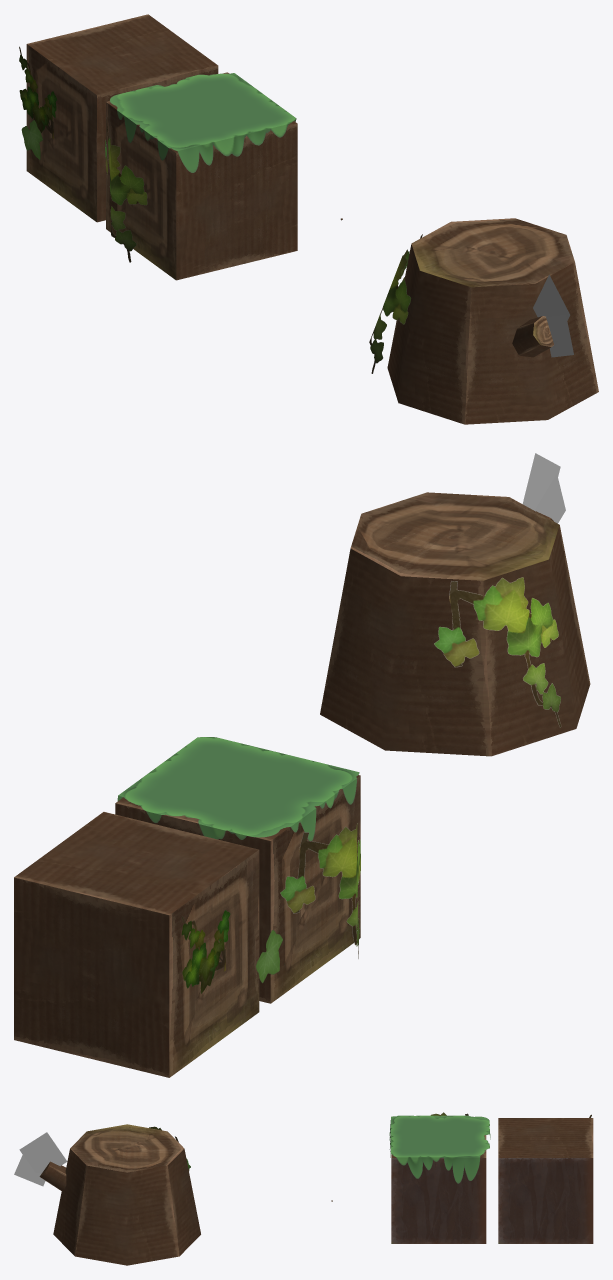
Rendered from Tree_Trunk.fbx.
3 renders of one model, top to bottom at view 1: azimuth 30°, elevation 25°; view 2: azimuth 150°, elevation 25°; view 3: azimuth 270°, elevation 25°, orthographic. The views are drawn at different scales.
Visible parts, largest first — view 1: Cube_Tree_stem.003, Cube_Tree_stem.002, Cube_Tree_stem.010, Cube_Tree_stem.005, Plane.004, Plane.001, Plane.002, Cube_Tree_stem.001, Leaf, Leaf.001; view 2: Cube_Tree_stem.010, Cube_Tree_stem.003, Cube_Tree_stem.005, Cube_Tree_stem.002, Plane.001, Plane.004, Plane.002, Leaf, Plane.003, Leaf.001; view 3: Cube_Tree_stem.003, Cube_Tree_stem.010, Cube_Tree_stem.002, Cube_Tree_stem.005, Leaf, Cube_Tree_stem.001, Leaf.001.
Part boxes in pixels (bbox=[...]): Cube_Tree_stem.003: bbox=[387, 218, 598, 424]; Cube_Tree_stem.002: bbox=[106, 72, 297, 280]; Cube_Tree_stem.010: bbox=[26, 14, 218, 222]; Cube_Tree_stem.005: bbox=[109, 73, 296, 172]; Plane.004: bbox=[105, 116, 147, 262]; Plane.001: bbox=[369, 234, 422, 373]; Plane.002: bbox=[19, 46, 57, 138]; Cube_Tree_stem.001: bbox=[512, 316, 553, 357]; Leaf: bbox=[533, 274, 570, 348]; Leaf.001: bbox=[546, 315, 573, 357]; Cube_Tree_stem.010: bbox=[14, 812, 259, 1077]; Cube_Tree_stem.003: bbox=[320, 492, 590, 756]; Cube_Tree_stem.005: bbox=[117, 737, 359, 840]; Cube_Tree_stem.002: bbox=[115, 775, 360, 1003]; Plane.001: bbox=[434, 577, 561, 727]; Plane.004: bbox=[280, 823, 360, 958]; Plane.002: bbox=[181, 910, 230, 993]; Leaf: bbox=[522, 453, 560, 510]; Plane.003: bbox=[256, 930, 284, 983]; Leaf.001: bbox=[534, 473, 565, 523]; Cube_Tree_stem.003: bbox=[53, 1124, 200, 1265]; Cube_Tree_stem.010: bbox=[498, 1118, 593, 1243]; Cube_Tree_stem.002: bbox=[391, 1135, 486, 1243]; Cube_Tree_stem.005: bbox=[389, 1115, 490, 1183]; Leaf: bbox=[19, 1132, 67, 1173]; Cube_Tree_stem.001: bbox=[39, 1161, 66, 1191]; Leaf.001: bbox=[14, 1155, 45, 1186].
Size of the model in its own units: 2.51 by 1.56 by 7.46.
